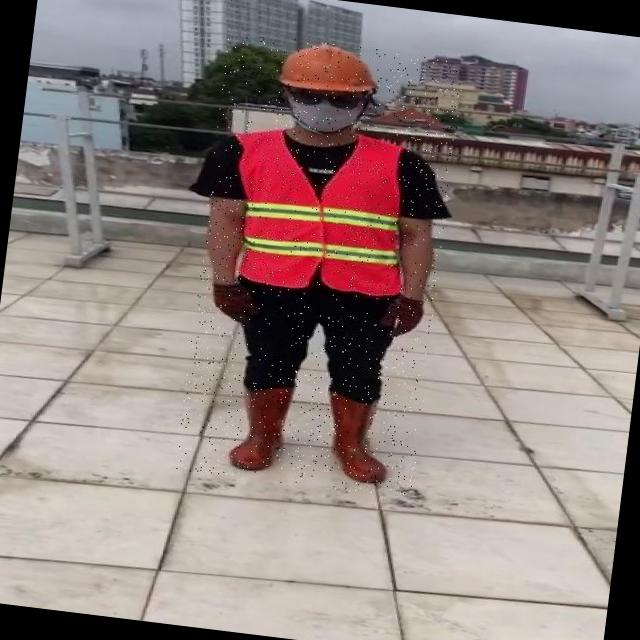boots: (229, 388, 292, 470), (330, 392, 386, 483)
gloves: (378, 294, 423, 336), (214, 283, 258, 324)
vest: (235, 130, 403, 297)
